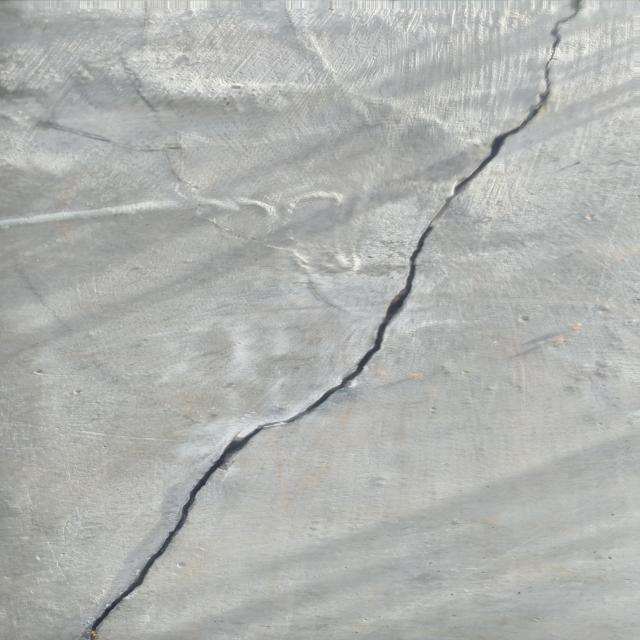Crack: (77, 0, 582, 639)
